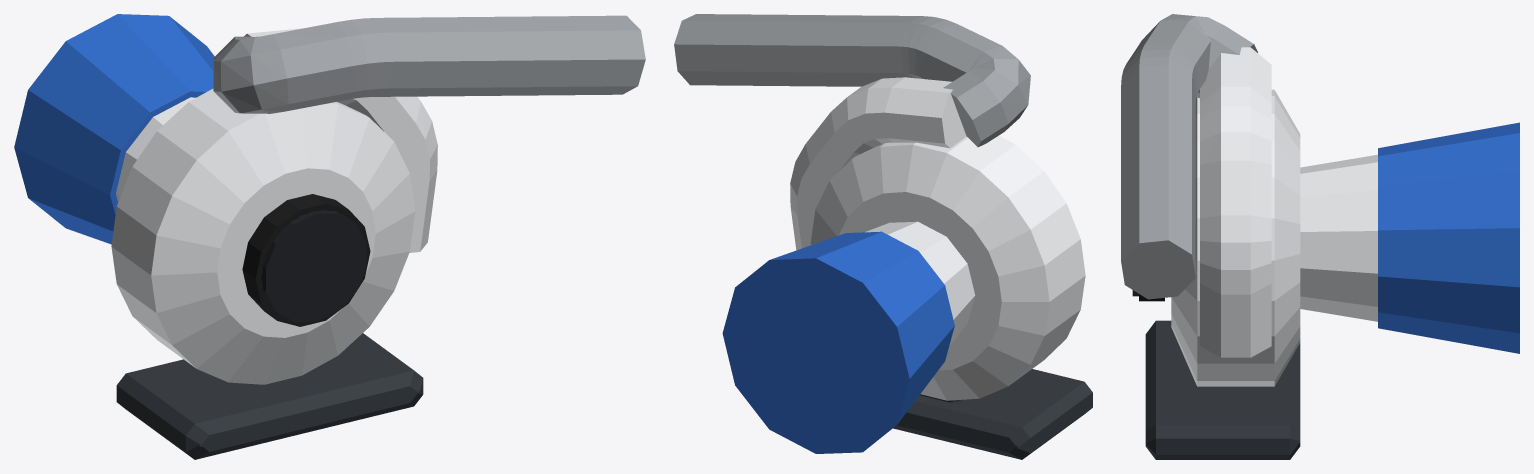
File: brute_500.glb
3 views of the same model, side by side, from view 1: azimuth 30°, elevation 25°; view 2: azimuth 150°, elevation 25°; view 3: azimuth 270°, elevation 25° (orthographic). The views are drawn at different scales.
Visible parts, largest first — view 1: model; view 2: model; view 3: model.
Boxes of the visible parts, x1,y1,x2,y2 form: model: [14, 14, 645, 459]; model: [674, 14, 1092, 459]; model: [1121, 14, 1519, 459].
Size of the model in its own units: 0.4013 by 0.3283 by 0.3089.
4 materials, 1 textured.
